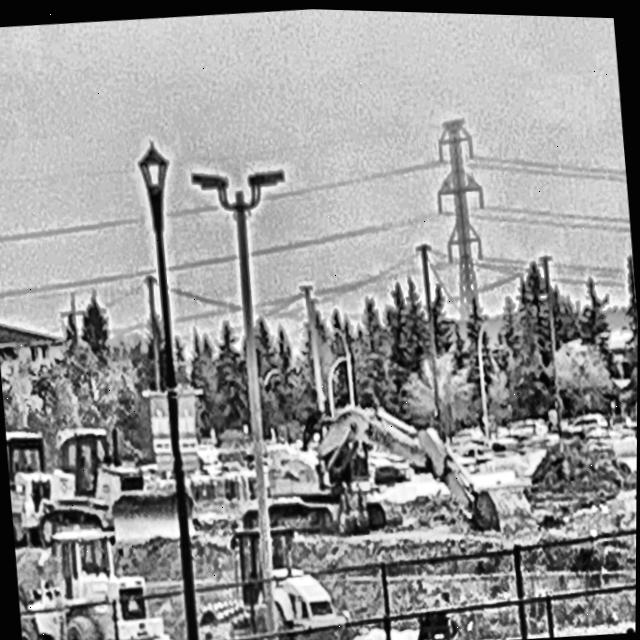buldozerpayloadergrader: (13, 516, 181, 640)
excavator: (250, 386, 506, 546)
